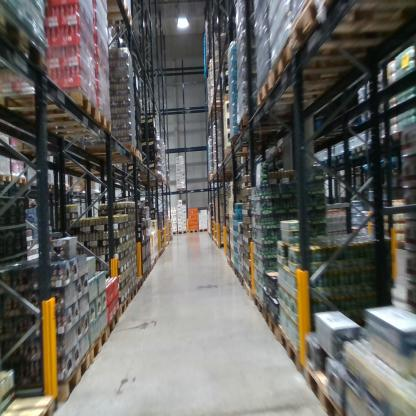pallet: (249, 58, 377, 112), (1, 82, 113, 143), (268, 33, 379, 86), (291, 4, 415, 51), (24, 348, 90, 404), (0, 8, 46, 78), (292, 355, 341, 413), (232, 109, 300, 143), (220, 134, 297, 163), (277, 316, 304, 379), (2, 390, 60, 415), (78, 325, 108, 363), (79, 142, 139, 160), (13, 138, 64, 155), (262, 301, 279, 347), (108, 149, 143, 171), (53, 153, 100, 169), (380, 128, 396, 152), (108, 308, 121, 337), (348, 143, 369, 160), (114, 296, 130, 318), (253, 291, 265, 319), (12, 173, 28, 190), (244, 279, 253, 304), (42, 176, 56, 191), (1, 171, 12, 190), (57, 180, 73, 193), (333, 150, 345, 167), (129, 283, 139, 302), (133, 277, 144, 293), (139, 269, 148, 283), (142, 263, 151, 276), (148, 259, 153, 274), (240, 271, 244, 289), (234, 267, 240, 279), (177, 229, 187, 236), (177, 186, 187, 193), (199, 227, 208, 234), (189, 228, 199, 234), (171, 229, 179, 235)
